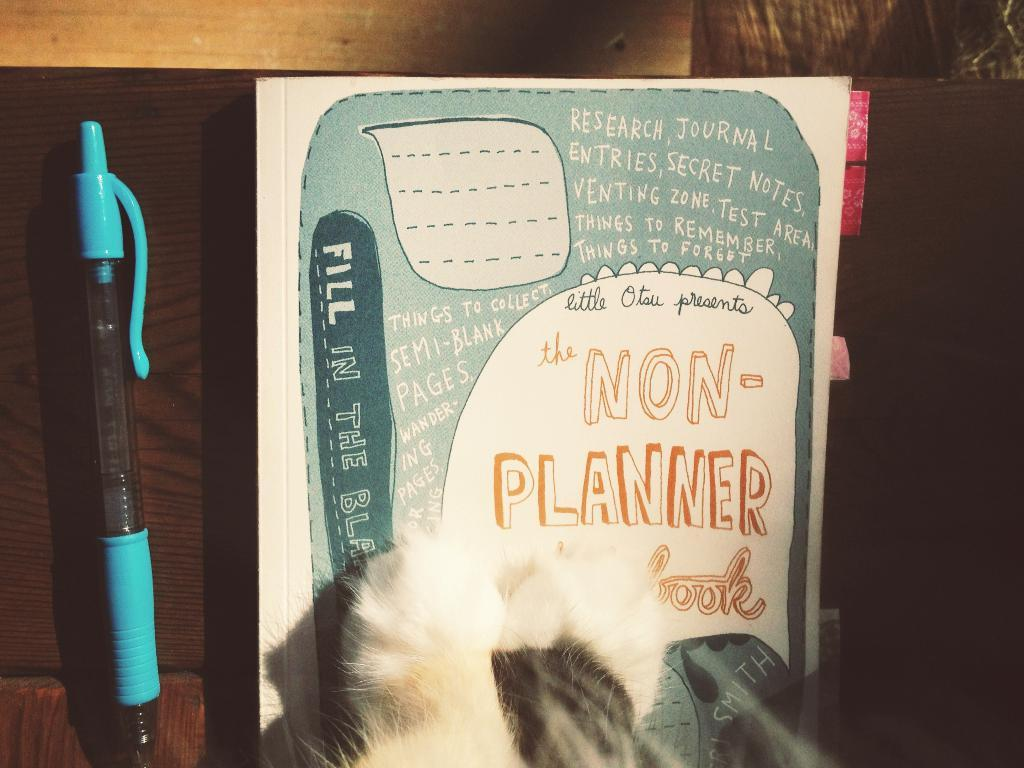pen: (74, 116, 159, 763)
